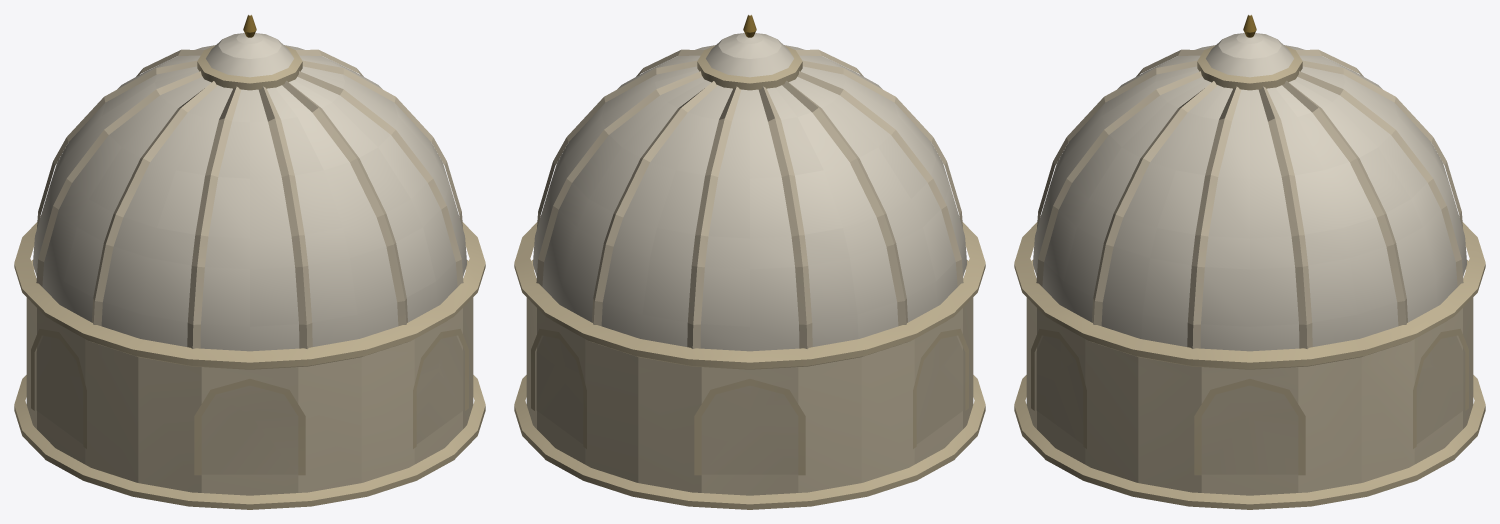
The model's file is dome.closed_12.plaster.glb.
3 renders of one model, left to right at view 1: azimuth 30°, elevation 25°; view 2: azimuth 150°, elevation 25°; view 3: azimuth 270°, elevation 25°, orthographic.
Parts seen in each view (by area): view 1: dome_closed_12_plaster; view 2: dome_closed_12_plaster; view 3: dome_closed_12_plaster.
Boxes of the visible parts, bbox=[...] form: dome_closed_12_plaster: bbox=[14, 15, 485, 509]; dome_closed_12_plaster: bbox=[514, 15, 985, 509]; dome_closed_12_plaster: bbox=[1014, 15, 1485, 509].
Size of what is drawn, in the model's own units: 7.6 by 7.03 by 7.6.
